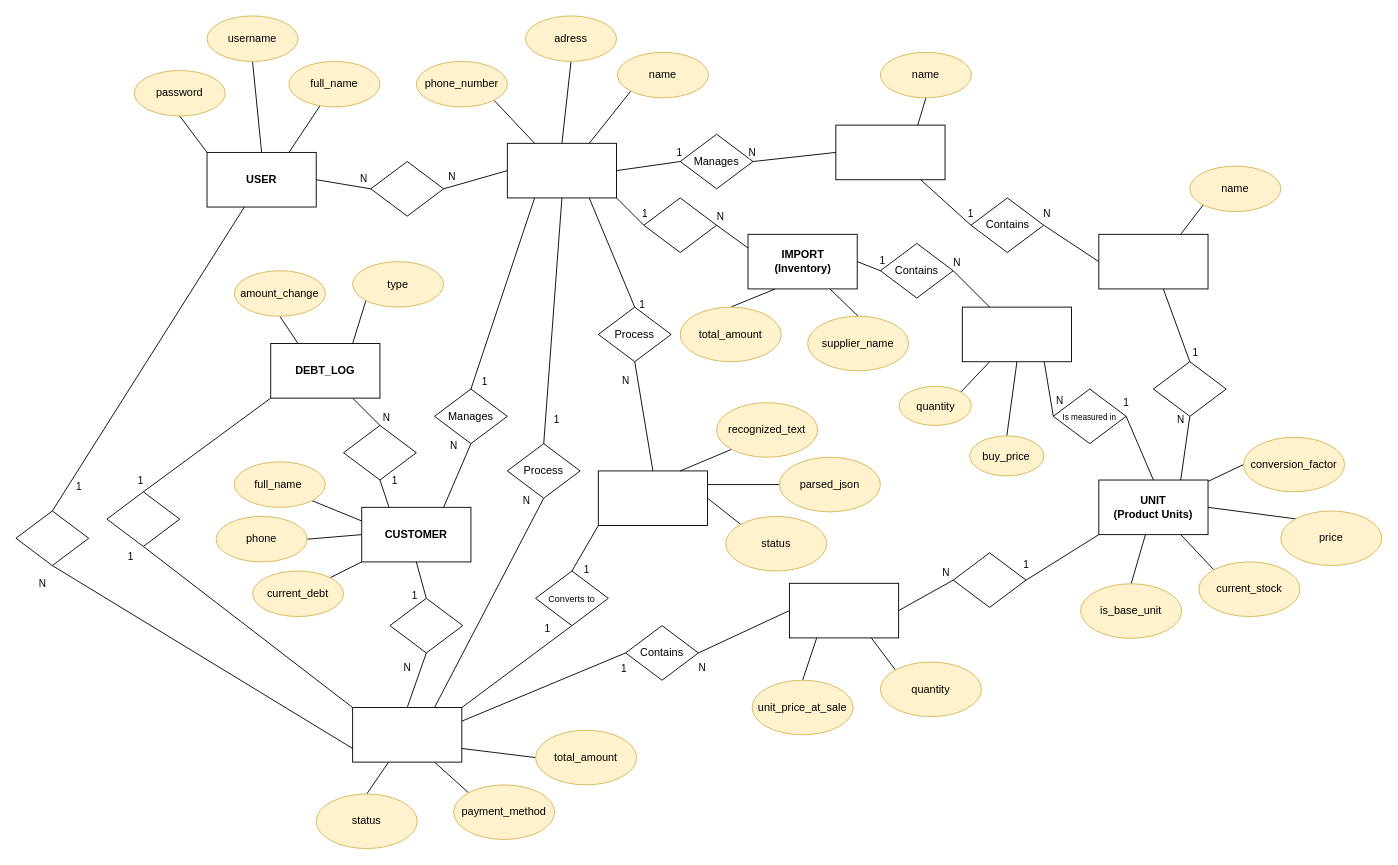
Some shapes in this 1398 by 865 pixel diagram are drawn without their labels. The centre of each missing label's shape, as x and y in pixels:
"AI_DRAFT_ORDERS" belongs at (652,498).
"CATEGORY" belongs at (890,152).
"Creates" belongs at (52,538).
"Employment" belongs at (407,188).
"Has" belongs at (1189,388).
"IMPORT_ITEM" belongs at (1016,334).
"Imports" belongs at (680,225).
"Incurs" belongs at (379,452).
"ORDER" belongs at (407,734).
"ORDER_ITEM" belongs at (844,610).
"Places" belongs at (426,625).
"PRODUCT" belongs at (1153,261).
"Records" belongs at (143,518).
"STORE" belongs at (561,170).
"Uses" belongs at (989,579).
